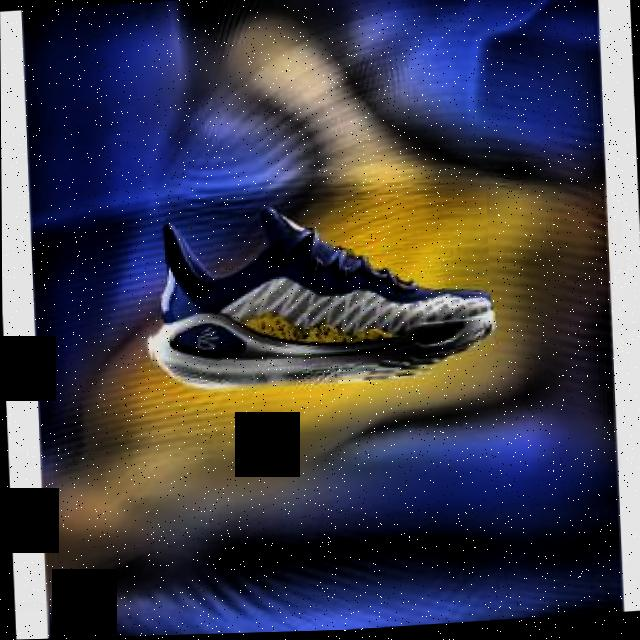shoe: (142, 195, 493, 397)
